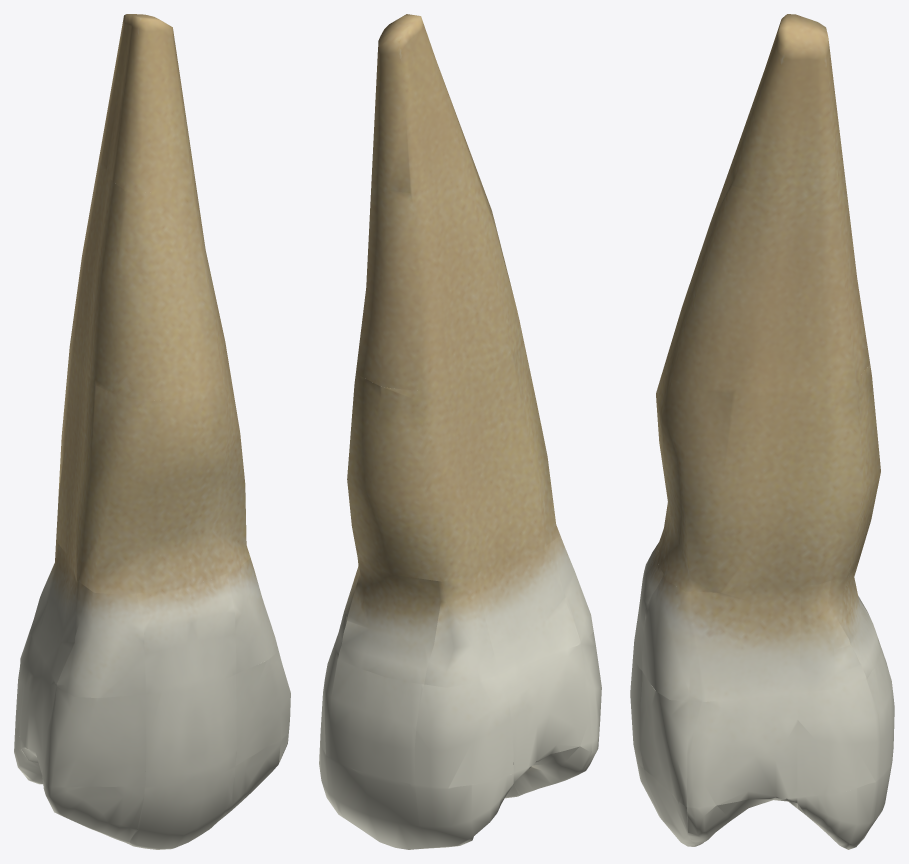
The model's file is Right_Upper_Second_Premolar.glb.
3 views of the same model, side by side, from view 1: azimuth 30°, elevation 25°; view 2: azimuth 150°, elevation 25°; view 3: azimuth 270°, elevation 25° (orthographic). The views are drawn at different scales.
Visible parts, largest first — view 1: Human_Teeth_Upper_Second_Premolar_Geo.004; view 2: Human_Teeth_Upper_Second_Premolar_Geo.004; view 3: Human_Teeth_Upper_Second_Premolar_Geo.004.
Part boxes in pixels (x1,y1,x2,y2): Human_Teeth_Upper_Second_Premolar_Geo.004: (14,14,290,849); Human_Teeth_Upper_Second_Premolar_Geo.004: (319,14,601,849); Human_Teeth_Upper_Second_Premolar_Geo.004: (630,14,894,849).
Bounding box in the file's own units: 0.8841 × 2.84 × 0.8175.
Materials: 30 (30 with a texture image).
